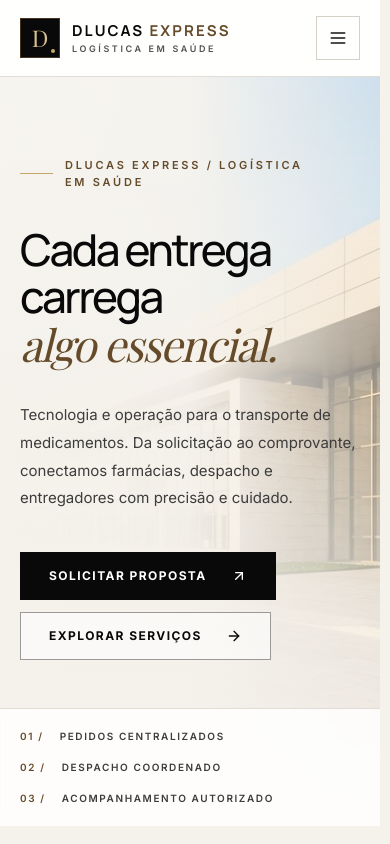
Test case: site institucional premium › abre o menu móvel com rotas e mantém o controle acessível
Click the button named "Abrir menu" at (338, 38), box [316,16,360,60]
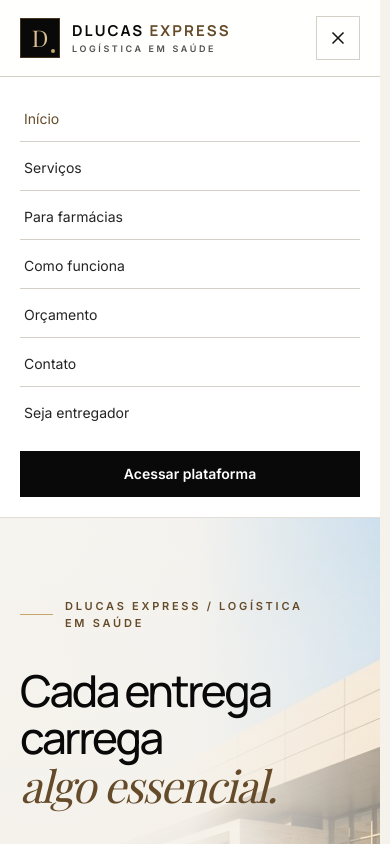
Expected: the button named "Fechar menu" is expanded, [316,16,360,60]
